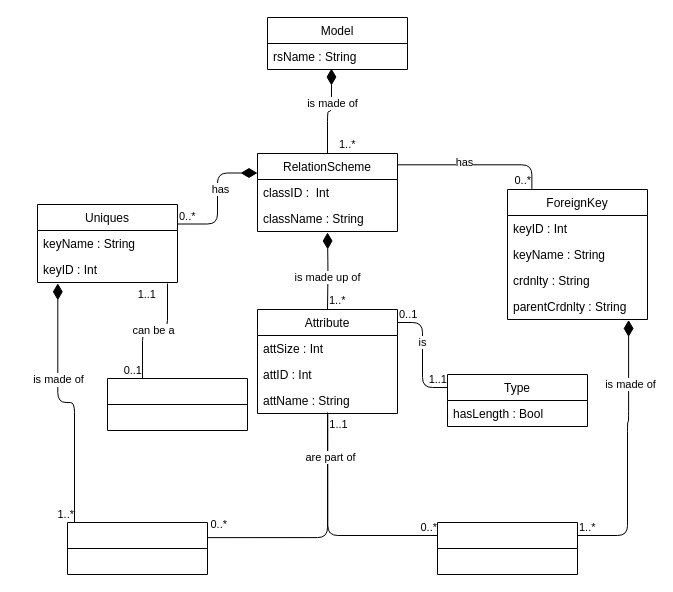
This 673x592 diagram has some shape labels left out. Each missing label, with the centre of its shape:
"ckAttribute" goes at point (137, 548).
"fkAttribute" goes at point (507, 548).
"PrimaryKey" goes at point (177, 404).
